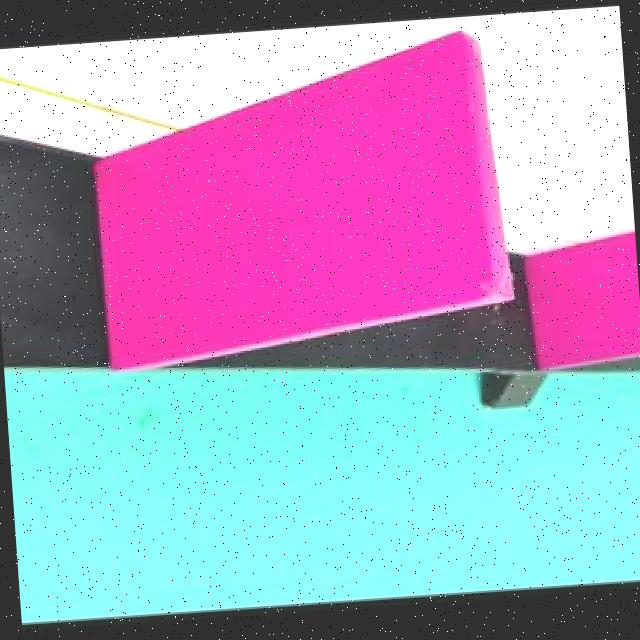xparking: (123, 36, 490, 318), (544, 237, 630, 350)
